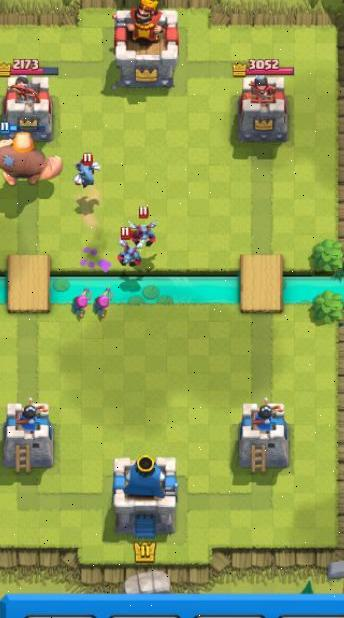enemy_minions: (67, 152, 102, 195), (125, 217, 161, 246), (114, 239, 145, 269)
player_archers: (64, 284, 95, 320), (89, 286, 115, 320)
player_giant: (0, 126, 64, 189)
